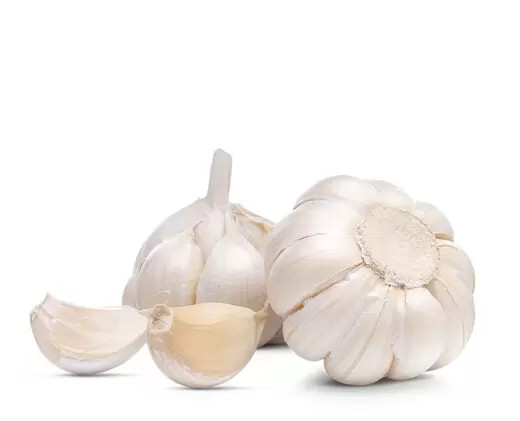garlic: (261, 171, 478, 387)
